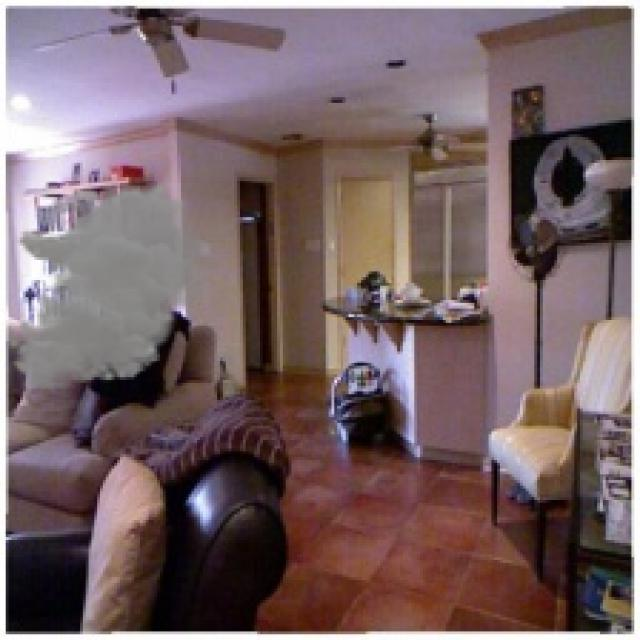smoke: (6, 183, 217, 391)
